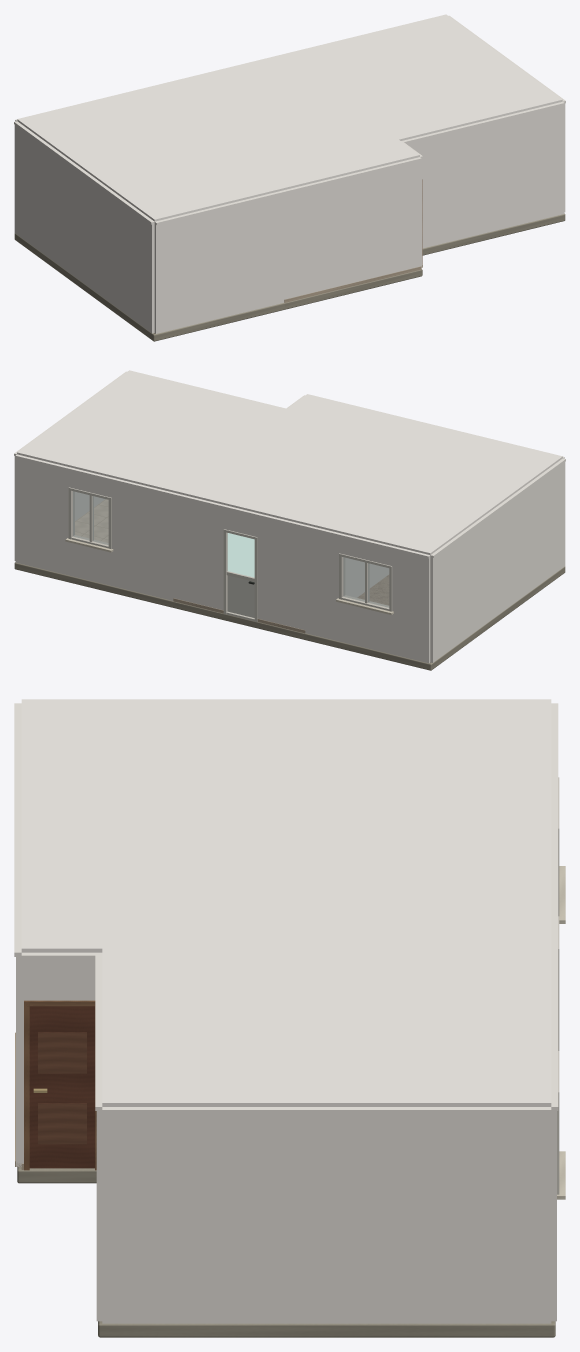
The model's file is My-Apartment.glb.
The picture shows the model from 3 angles, top to bottom: view 1: azimuth 30°, elevation 25°; view 2: azimuth 150°, elevation 25°; view 3: azimuth 270°, elevation 25°; orthographic projection. The views are drawn at different scales.
Parts seen in each view (by area): view 1: South bedroom wall (×2), Second bedroom ceiling, First bedroom ceiling, West bedroom wall, South hallway wall, Kitchen ceiling, Hallway ceiling, First bedroom floor, Second bedroom floor, Hallway floor, East bedroom wall; view 2: Second bedroom ceiling, First bedroom ceiling, Second bedroom window wall, West bedroom wall, Kitchen patio wall, Bedroom window wall, Kitchen ceiling, Hallway ceiling, Window (×2), Patio door, First bedroom floor, Second bedroom floor (+3 smaller); view 3: East bedroom wall, Second bedroom ceiling, First bedroom ceiling, Kitchen ceiling, Hallway ceiling, Entry door, Second bedroom floor, Entrance wall, South bedroom wall (×2), Second bedroom window wall, South hallway wall, Entrance frame (+3 smaller).
Boxes of the visible parts, bbox=[...] form: South bedroom wall (×2): bbox=[154, 101, 564, 333]; Second bedroom ceiling: bbox=[283, 14, 562, 140]; First bedroom ceiling: bbox=[17, 88, 282, 221]; West bedroom wall: bbox=[14, 121, 154, 333]; South hallway wall: bbox=[283, 157, 421, 302]; Kitchen ceiling: bbox=[146, 54, 366, 149]; Hallway ceiling: bbox=[230, 116, 419, 190]; First bedroom floor: bbox=[14, 233, 284, 341]; Second bedroom floor: bbox=[422, 213, 565, 255]; Hallway floor: bbox=[285, 269, 422, 309]; East bedroom wall: bbox=[449, 15, 565, 212]; Second bedroom ceiling: bbox=[17, 370, 286, 492]; First bedroom ceiling: bbox=[306, 426, 562, 555]; Second bedroom window wall: bbox=[15, 454, 174, 600]; West bedroom wall: bbox=[430, 458, 565, 662]; Kitchen patio wall: bbox=[173, 493, 306, 633]; Bedroom window wall: bbox=[305, 525, 430, 663]; Kitchen ceiling: bbox=[175, 431, 387, 524]; Hallway ceiling: bbox=[256, 394, 438, 463]; Window (×2): bbox=[65, 487, 393, 614]; Patio door: bbox=[223, 529, 257, 621]; First bedroom floor: bbox=[304, 566, 565, 670]; Second bedroom floor: bbox=[14, 499, 174, 607]; East bedroom wall: bbox=[102, 1107, 551, 1323]; Second bedroom ceiling: bbox=[102, 948, 551, 1106]; First bedroom ceiling: bbox=[21, 699, 551, 819]; Kitchen ceiling: bbox=[226, 820, 551, 948]; Hallway ceiling: bbox=[21, 820, 226, 952]; Entry door: bbox=[29, 1006, 94, 1168]; Second bedroom floor: bbox=[98, 1321, 555, 1337]; Entrance wall: bbox=[21, 952, 102, 1169]; South bedroom wall (×2): bbox=[14, 703, 102, 1321]; Second bedroom window wall: bbox=[551, 952, 558, 1321]; South hallway wall: bbox=[14, 824, 21, 1166]; Entrance frame: bbox=[24, 1000, 96, 1170].
Size of the model in its own units: 11.27 by 3 by 6.41.
Materials: 40 (19 with a texture image).
